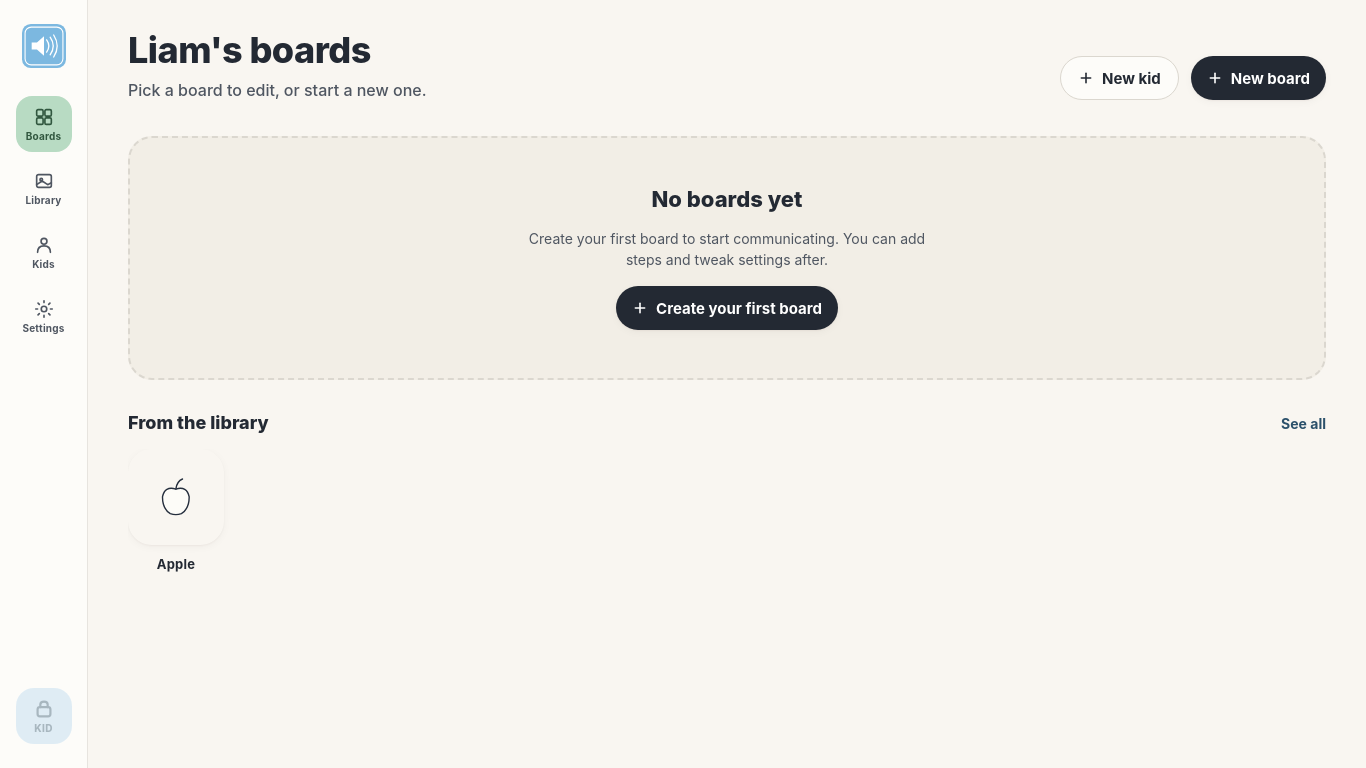
Test: ParentHomeRoute create flows › clicking the empty-state CTA opens the New board modal
Click the button "Create your first board".
click(727, 308)  # box [616,286,838,330]
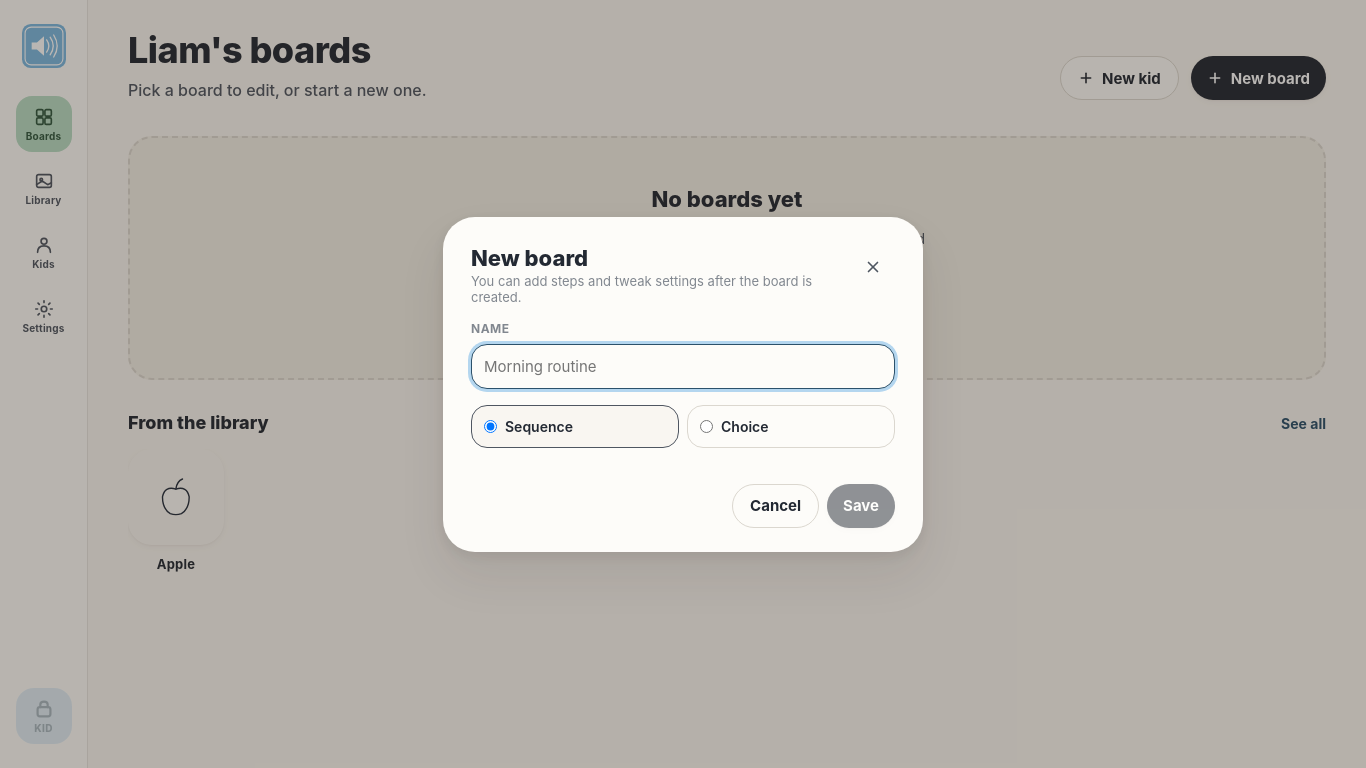
Expected: the heading "New board" is shown, [471,244,588,270]
